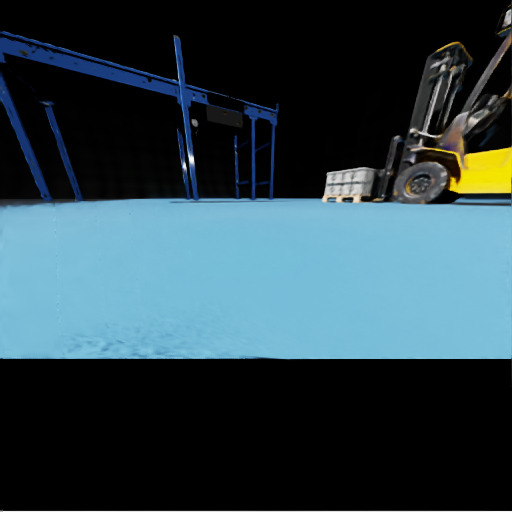transportation_area: (341, 182, 379, 194), (193, 94, 194, 95), (178, 90, 179, 91), (32, 51, 33, 52), (20, 42, 21, 43)
